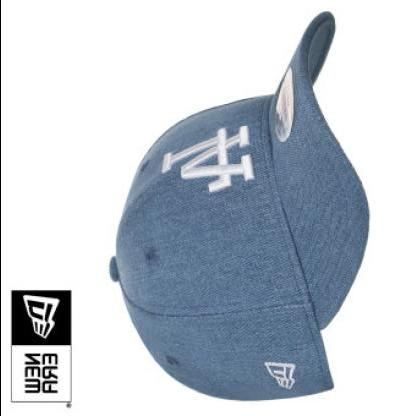cap: (64, 43, 320, 361)
